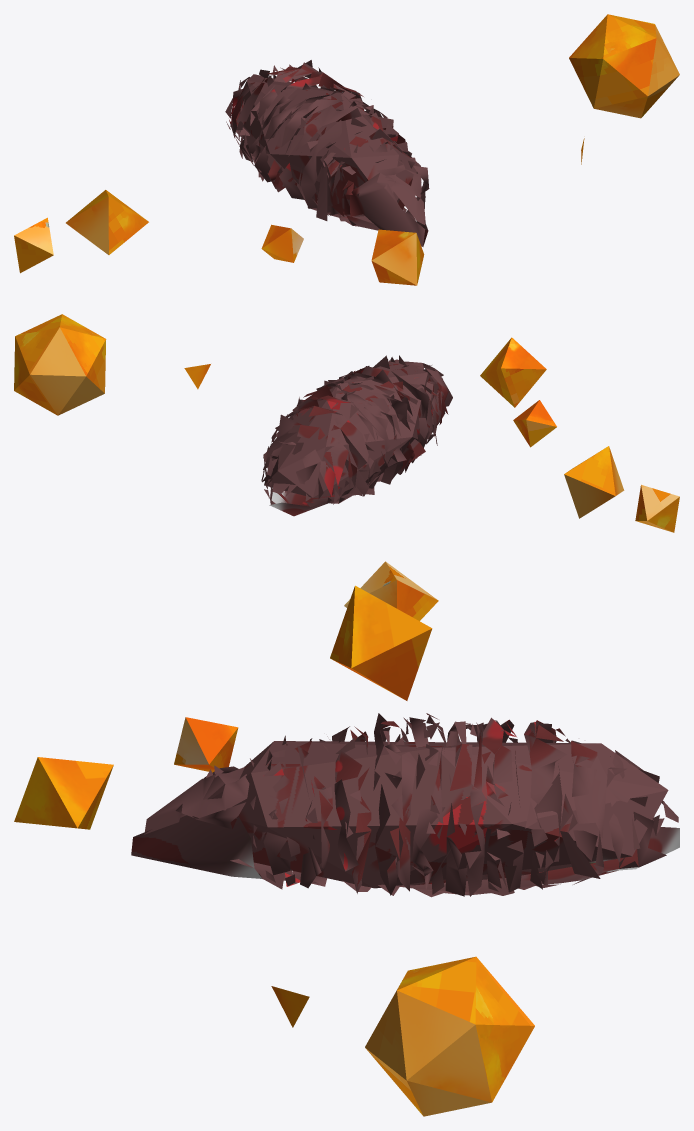
File: pepino.fbx
3 renders of one model, top to bottom at view 1: azimuth 30°, elevation 25°; view 2: azimuth 150°, elevation 25°; view 3: azimuth 270°, elevation 25°, orthographic. The views are drawn at different scales.
Visible parts, largest first — view 1: Piedra_2; view 2: Piedra_2; view 3: Piedra_2.
Part boxes in pixels (x1,y1,x2,y2): Piedra_2: (14, 14, 679, 285); Piedra_2: (14, 314, 679, 532); Piedra_2: (14, 561, 679, 1116).
Size of the model in its own units: 411 by 61.52 by 228.
Materials: 2 (2 with a texture image).
